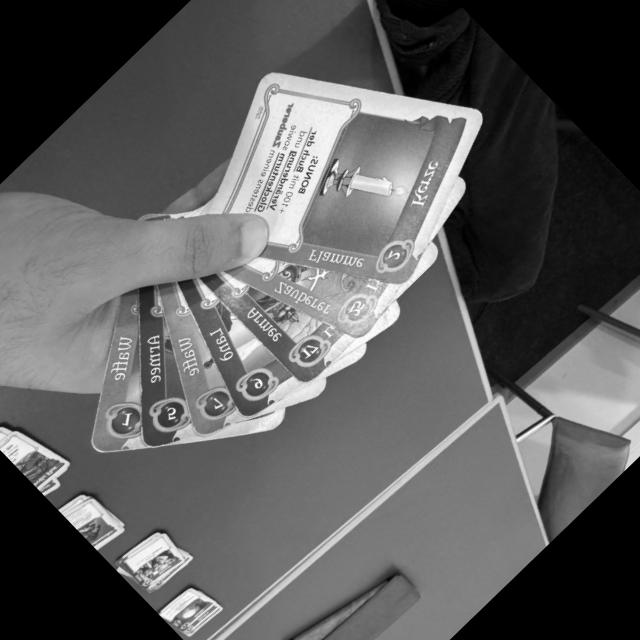Candle: (197, 71, 483, 284)
Light Cavalry: (200, 271, 353, 382)
Magic Wand: (92, 289, 148, 451)
Mountain: (178, 278, 302, 416)
Rangers: (140, 283, 196, 449)
Sword of Keth: (157, 282, 242, 435)
Warlock Lord: (227, 255, 401, 338)
